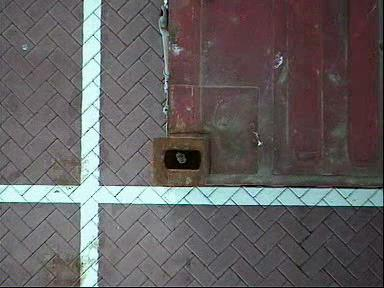groundmarker_2: (184, 24, 233, 90)
